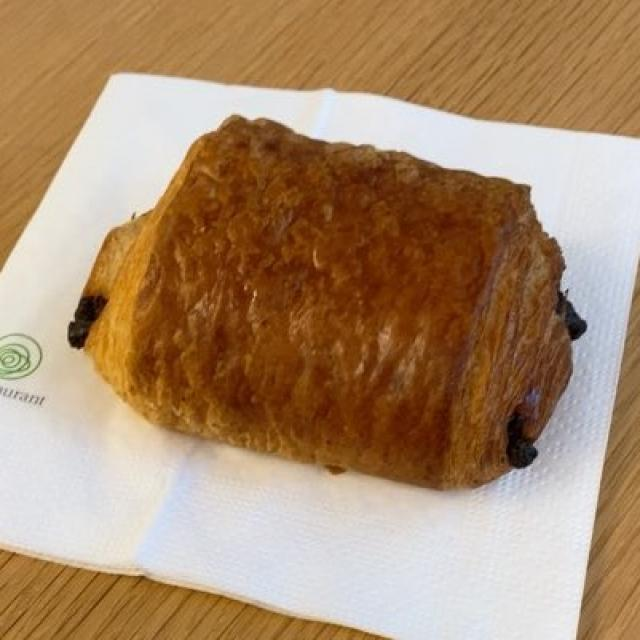croissant: (76, 122, 572, 486)
